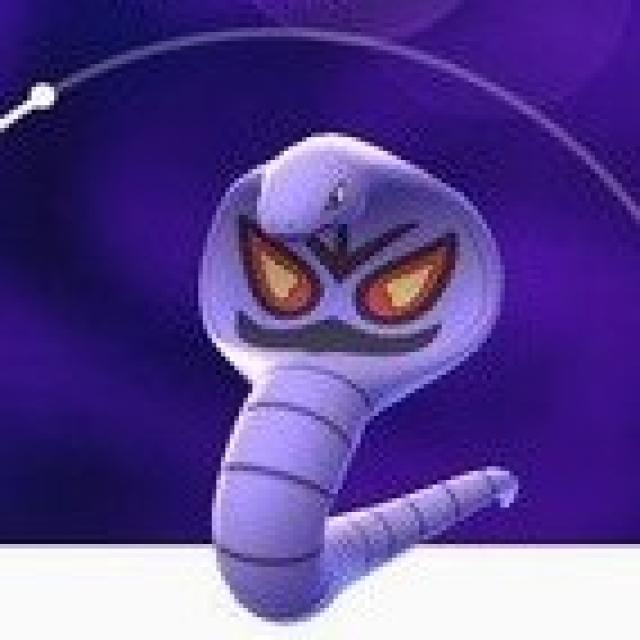Arbok: (175, 117, 527, 620)
